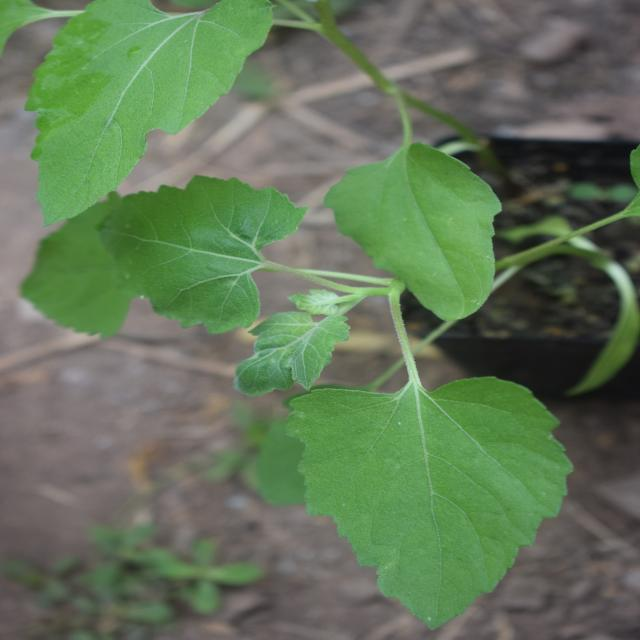cocklebur: (8, 13, 626, 540)
